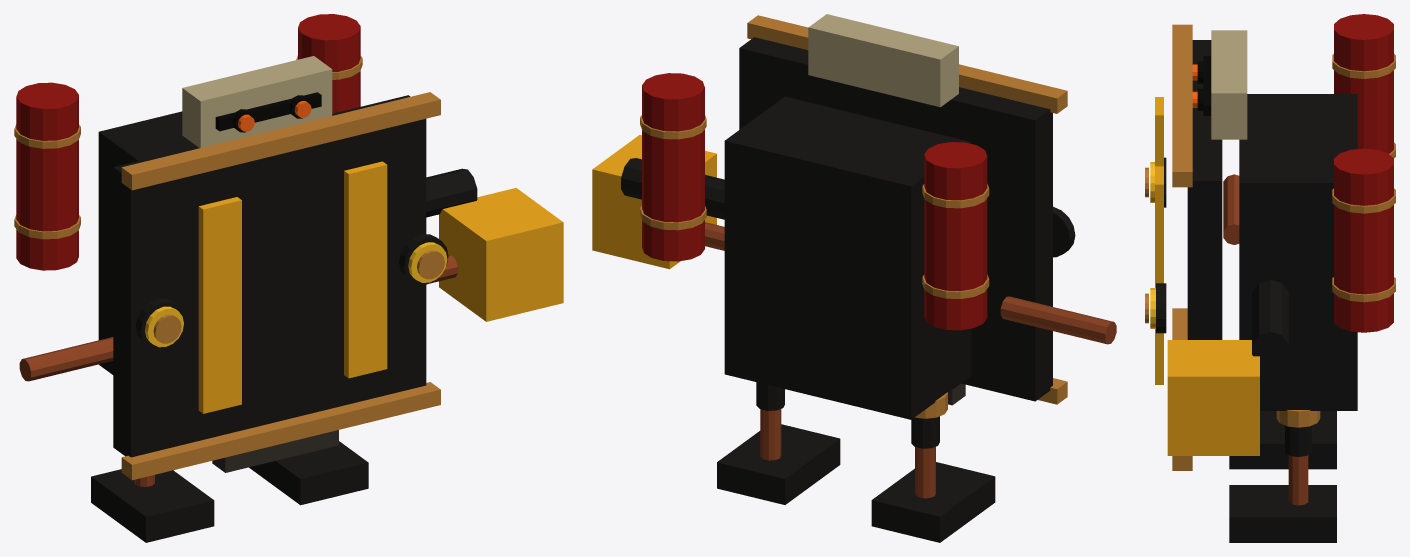
The model's file is ENEMY_ERB_Bulwark_ReadabilityUpgrade_LOD0.obj.
The picture shows the model from 3 angles, left to right: view 1: azimuth 30°, elevation 25°; view 2: azimuth 150°, elevation 25°; view 3: azimuth 270°, elevation 25°; orthographic projection. The views are drawn at different scales.
Parts seen in each view (by area): view 1: bulwark_front_readable_door_shield_plate, bulwark_right_hammer_head_big_slam_tell, bulwark_left_shoulder_pressure_tank_danger_red_pressure_tank_she, bulwark_right_hazard_shield_chevron, bulwark_left_hazard_shield_chevron, bulwark_aged_brass_shield_top_rim, bulwark_cream_enamel_brow_mask, bulwark_aged_brass_shield_bottom_rim, bulwark_broad_blackened_iron_core_block, bulwark_left_broad_blackened_iron_foot, bulwark_right_broad_blackened_iron_foot, bulwark_right_shoulder_pressure_tank_danger_red_pressure_tank_sh (+10 smaller); view 2: bulwark_broad_blackened_iron_core_block, bulwark_front_readable_door_shield_plate, bulwark_left_shoulder_pressure_tank_danger_red_pressure_tank_she, bulwark_right_shoulder_pressure_tank_danger_red_pressure_tank_sh, bulwark_cream_enamel_brow_mask, bulwark_left_broad_blackened_iron_foot, bulwark_right_broad_blackened_iron_foot, bulwark_right_hammer_head_big_slam_tell, bulwark_aged_brass_shield_top_rim, bulwark_left_shield_piston_brace, bulwark_right_hammer_arm_blackened_pivot, bulwark_right_lower_copper_piston_leg (+6 smaller); view 3: bulwark_broad_blackened_iron_core_block, bulwark_right_hammer_head_big_slam_tell, bulwark_right_shoulder_pressure_tank_danger_red_pressure_tank_sh, bulwark_front_readable_door_shield_plate, bulwark_left_shoulder_pressure_tank_danger_red_pressure_tank_she, bulwark_right_broad_blackened_iron_foot, bulwark_cream_enamel_brow_mask, bulwark_aged_brass_shield_top_rim, bulwark_left_broad_blackened_iron_foot, bulwark_right_hammer_arm_blackened_pivot, bulwark_right_hazard_shield_chevron, bulwark_left_shield_piston_brace (+10 smaller).
Boxes of the visible parts, x1=… form: bulwark_front_readable_door_shield_plate: x1=113, y1=95, x2=426, y2=457; bulwark_right_hammer_head_big_slam_tell: x1=439, y1=188, x2=563, y2=321; bulwark_left_shoulder_pressure_tank_danger_red_pressure_tank_she: x1=16, y1=82, x2=78, y2=270; bulwark_right_hazard_shield_chevron: x1=344, y1=161, x2=387, y2=378; bulwark_left_hazard_shield_chevron: x1=198, y1=197, x2=241, y2=413; bulwark_aged_brass_shield_top_rim: x1=121, y1=92, x2=440, y2=190; bulwark_cream_enamel_brow_mask: x1=182, y1=56, x2=332, y2=147; bulwark_aged_brass_shield_bottom_rim: x1=121, y1=382, x2=440, y2=480; bulwark_broad_blackened_iron_core_block: x1=98, y1=111, x2=196, y2=374; bulwark_left_broad_blackened_iron_foot: x1=91, y1=469, x2=214, y2=542; bulwark_right_broad_blackened_iron_foot: x1=249, y1=441, x2=368, y2=505; bulwark_right_shoulder_pressure_tank_danger_red_pressure_tank_sh: x1=298, y1=14, x2=360, y2=113; bulwark_broad_blackened_iron_core_block: x1=724, y1=96, x2=971, y2=419; bulwark_front_readable_door_shield_plate: x1=739, y1=37, x2=1052, y2=401; bulwark_left_shoulder_pressure_tank_danger_red_pressure_tank_she: x1=924, y1=142, x2=987, y2=330; bulwark_right_shoulder_pressure_tank_danger_red_pressure_tank_sh: x1=642, y1=73, x2=704, y2=261; bulwark_cream_enamel_brow_mask: x1=808, y1=14, x2=958, y2=107; bulwark_left_broad_blackened_iron_foot: x1=871, y1=462, x2=995, y2=542; bulwark_right_broad_blackened_iron_foot: x1=717, y1=424, x2=840, y2=504; bulwark_right_hammer_head_big_slam_tell: x1=592, y1=135, x2=716, y2=269; bulwark_aged_brass_shield_top_rim: x1=747, y1=15, x2=1067, y2=113; bulwark_left_shield_piston_brace: x1=1000, y1=296, x2=1116, y2=344; bulwark_right_hammer_arm_blackened_pivot: x1=621, y1=158, x2=724, y2=219; bulwark_right_lower_copper_piston_leg: x1=760, y1=409, x2=781, y2=460; bulwark_broad_blackened_iron_core_block: x1=1239, y1=94, x2=1357, y2=410; bulwark_right_hammer_head_big_slam_tell: x1=1167, y1=340, x2=1259, y2=455; bulwark_right_shoulder_pressure_tank_danger_red_pressure_tank_sh: x1=1334, y1=148, x2=1393, y2=332; bulwark_front_readable_door_shield_plate: x1=1187, y1=40, x2=1222, y2=339; bulwark_left_shoulder_pressure_tank_danger_red_pressure_tank_she: x1=1334, y1=14, x2=1393, y2=153; bulwark_right_broad_blackened_iron_foot: x1=1229, y1=485, x2=1336, y2=542; bulwark_cream_enamel_brow_mask: x1=1211, y1=30, x2=1247, y2=139; bulwark_aged_brass_shield_top_rim: x1=1172, y1=24, x2=1192, y2=187; bulwark_left_broad_blackened_iron_foot: x1=1229, y1=411, x2=1336, y2=469; bulwark_right_hammer_arm_blackened_pivot: x1=1252, y1=279, x2=1288, y2=366; bulwark_right_hazard_shield_chevron: x1=1155, y1=166, x2=1163, y2=384; bulwark_left_shield_piston_brace: x1=1223, y1=174, x2=1239, y2=244.
Bounding box in the file's own units: 2.22 × 1.84 × 0.9765.
